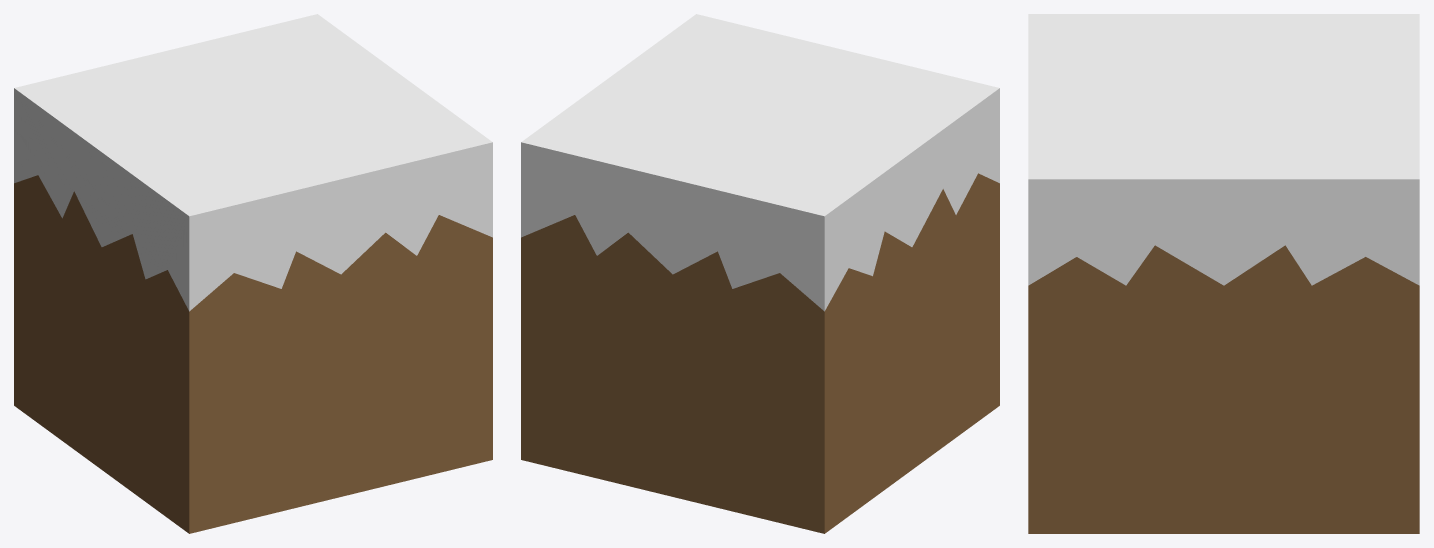
File: RPG_Tiles_Square_Covered_02.FBX
The picture shows the model from 3 angles, left to right: view 1: azimuth 30°, elevation 25°; view 2: azimuth 150°, elevation 25°; view 3: azimuth 270°, elevation 25°; orthographic projection. The views are drawn at different scales.
Parts seen in each view (by area): view 1: RPG_Tiles_Square_Covered_02; view 2: RPG_Tiles_Square_Covered_02; view 3: RPG_Tiles_Square_Covered_02.
Part boxes in pixels (left/top/right/bottom): RPG_Tiles_Square_Covered_02: left=14, top=14, right=492, bottom=533; RPG_Tiles_Square_Covered_02: left=521, top=14, right=999, bottom=533; RPG_Tiles_Square_Covered_02: left=1028, top=14, right=1419, bottom=533.
Size of the model in its own units: 3000 by 3000 by 3000.
